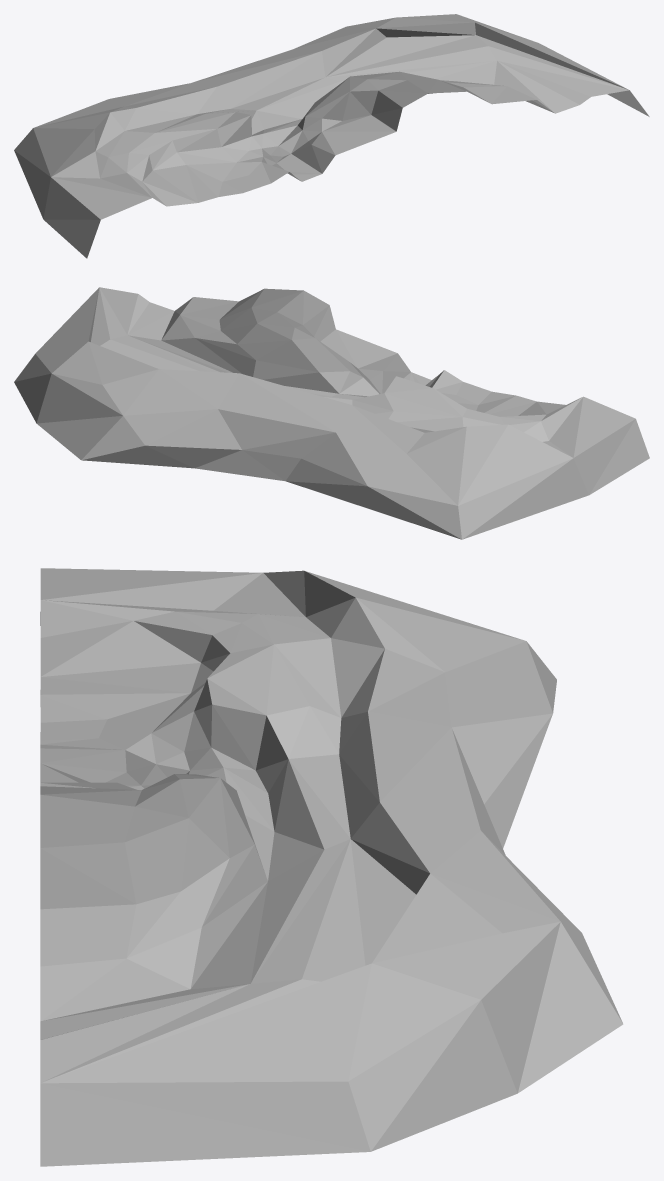
File: EA03_Nature_Solid_Flat_01c.glb
3 views of the same model, one above another, from view 1: azimuth 30°, elevation 25°; view 2: azimuth 150°, elevation 25°; view 3: azimuth 270°, elevation 25° (orthographic). The views are drawn at different scales.
Parts seen in each view (by area): view 1: EA03_Nature_Solid_Flat_01c; view 2: EA03_Nature_Solid_Flat_01c; view 3: EA03_Nature_Solid_Flat_01c.
Part boxes in pixels (x1=…): EA03_Nature_Solid_Flat_01c: x1=14, y1=14, x2=649, y2=258; EA03_Nature_Solid_Flat_01c: x1=14, y1=287, x2=649, y2=539; EA03_Nature_Solid_Flat_01c: x1=40, y1=568, x2=623, y2=1166.
Size of the model in its own units: 16.45 by 2.31 by 7.38.
Materials: 1 (1 with a texture image).
